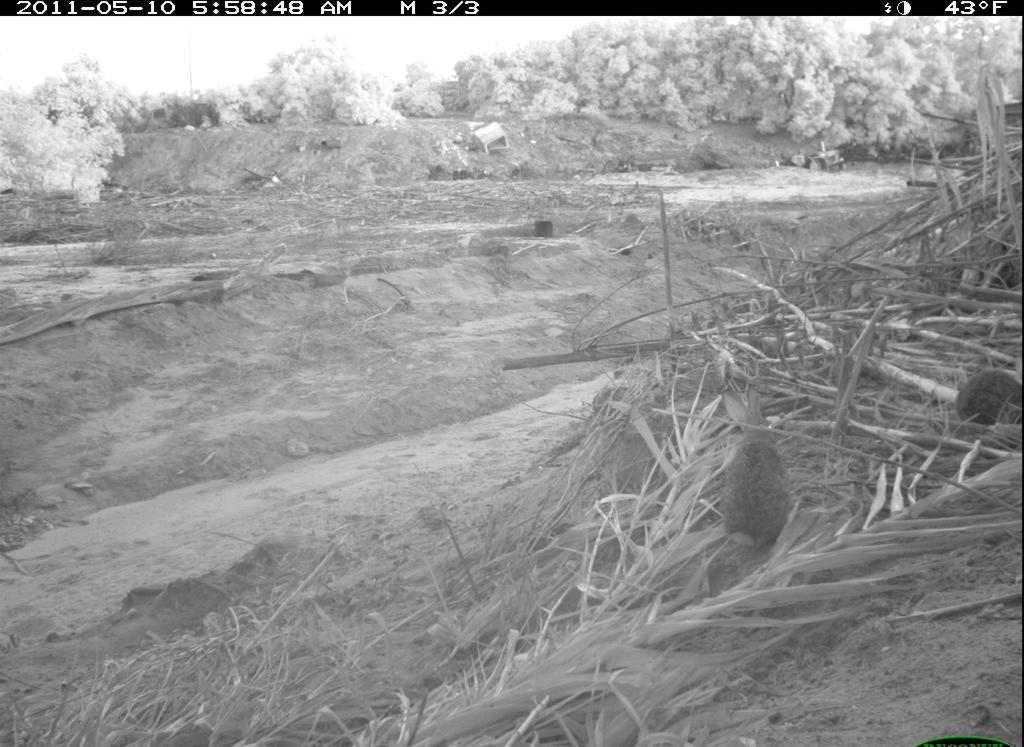rabbit: (707, 379, 806, 559)
